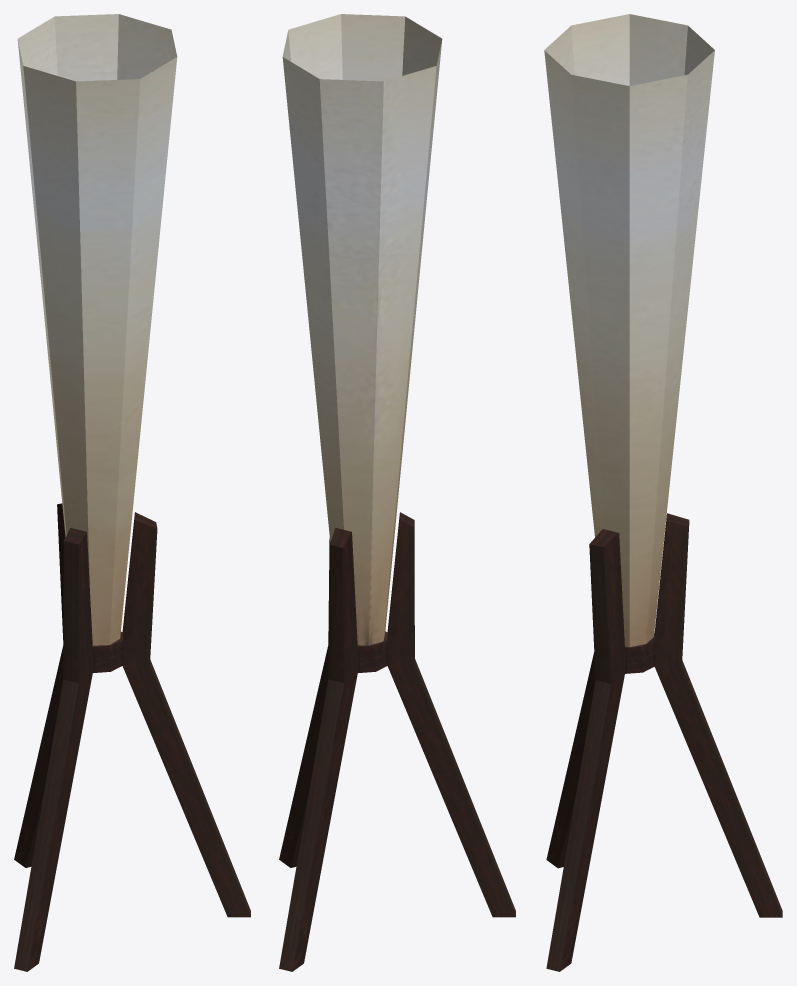
File: Furniture_FloorLamp.fbx
3 renders of one model, left to right at view 1: azimuth 30°, elevation 25°; view 2: azimuth 150°, elevation 25°; view 3: azimuth 270°, elevation 25°, orthographic.
Parts seen in each view (by area): view 1: Empty_Mesh; view 2: Empty_Mesh; view 3: Empty_Mesh.
Boxes of the visible parts, x1=… form: Empty_Mesh: x1=14, y1=14, x2=250, y2=971; Empty_Mesh: x1=279, y1=14, x2=515, y2=971; Empty_Mesh: x1=544, y1=14, x2=782, y2=971.
Size of the model in its own units: 39727 by 138821 by 34718.
